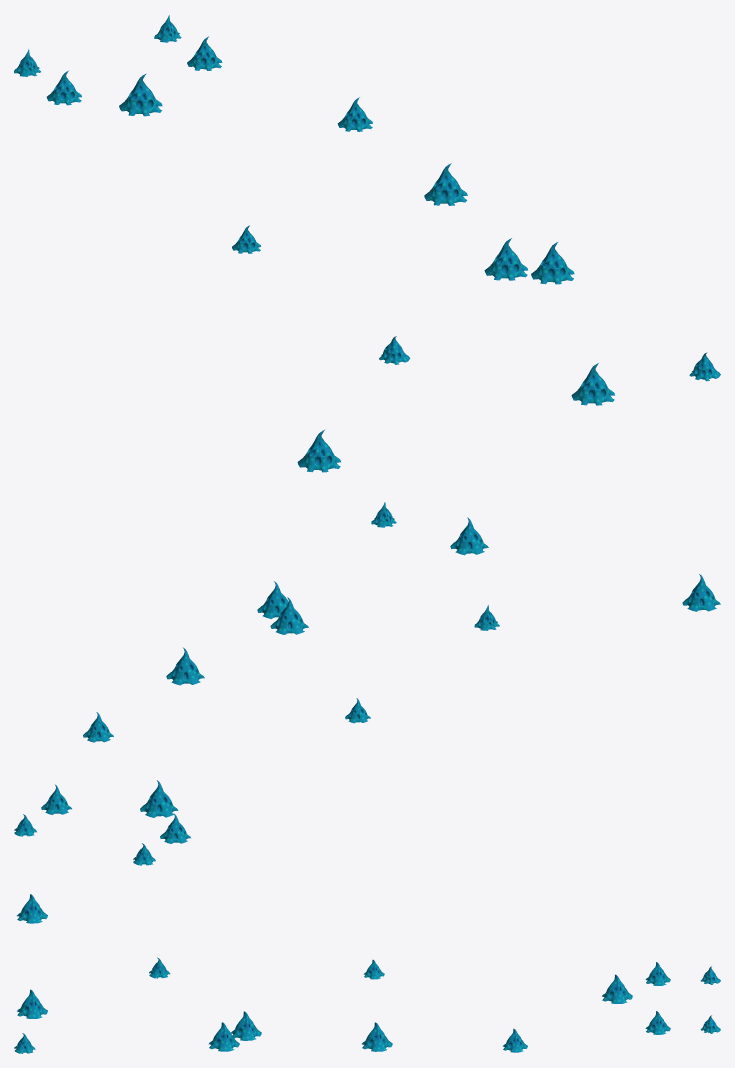
File: plantG.fbx
The picture shows the model from 3 angles, top to bottom: view 1: azimuth 30°, elevation 25°; view 2: azimuth 150°, elevation 25°; view 3: azimuth 270°, elevation 25°; orthographic projection. The views are drawn at different scales.
Visible parts, largest first — view 1: plantG; view 2: plantG; view 3: plantG.
Part boxes in pixels (x1=…): plantG: x1=14, y1=15, x2=720, y2=472; plantG: x1=14, y1=502, x2=720, y2=865; plantG: x1=14, y1=894, x2=720, y2=1053.
Bounding box in the file's own units: 2282 × 179 × 4746.
